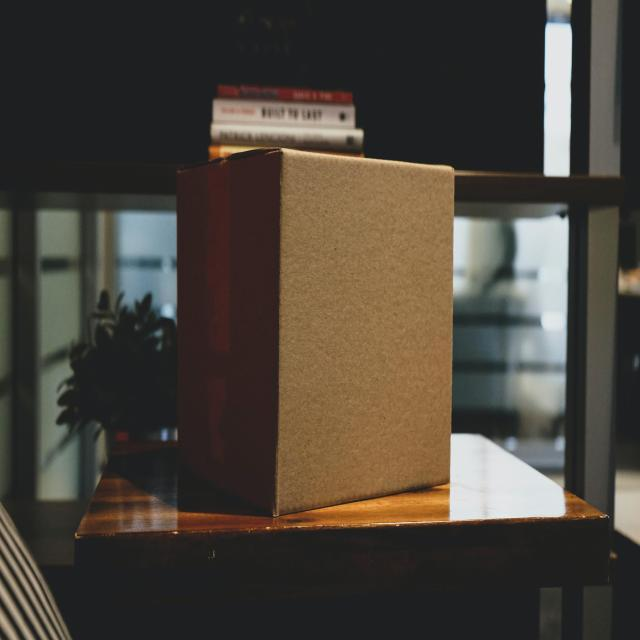box: (172, 135, 454, 530)
